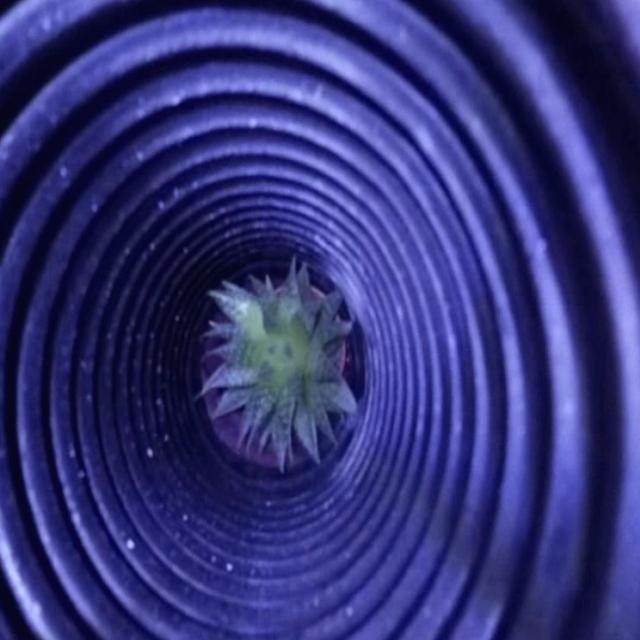leaf: (209, 269, 351, 462)
